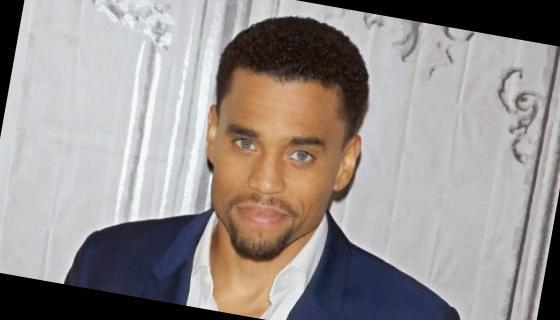Sober: (220, 74, 330, 244)
